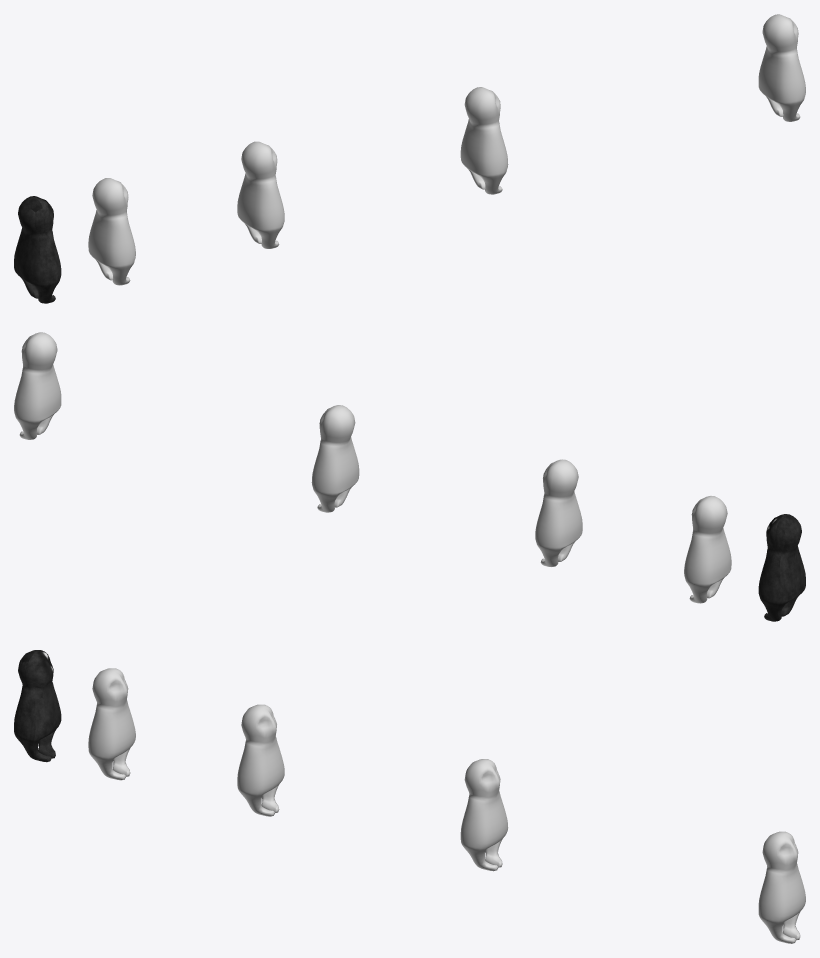
Rendered from enemy_small.fbx.
3 views of the same model, one above another, from view 1: azimuth 30°, elevation 25°; view 2: azimuth 150°, elevation 25°; view 3: azimuth 330°, elevation 25° (orthographic).
Parts seen in each view (by area): view 1: thing3, thing4, thing1, enemy_small, thing2; view 2: thing3, thing1, thing4, enemy_small, thing2; view 3: thing1, thing4, thing2, thing3, enemy_small.
Part boxes in pixels (<box>): thing3: <box>460,87,508,194</box>; thing4: <box>758,14,805,121</box>; thing1: <box>88,178,135,285</box>; enemy_small: <box>14,196,61,303</box>; thing2: <box>237,141,284,248</box>; thing3: <box>311,405,359,512</box>; thing1: <box>684,496,731,603</box>; thing4: <box>14,332,61,439</box>; enemy_small: <box>758,514,805,621</box>; thing2: <box>535,459,582,566</box>; thing1: <box>88,668,135,780</box>; thing4: <box>758,831,805,943</box>; thing2: <box>237,704,284,816</box>; thing3: <box>460,759,508,871</box>; enemy_small: <box>14,650,61,762</box>.
Size of the model in its own units: 10.45 by 1.34 by 0.6867.
1 material, 1 textured.
